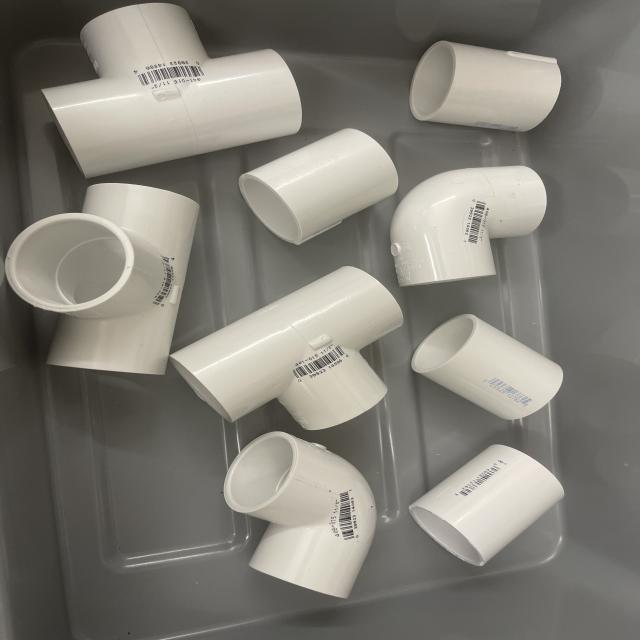L Joint: (223, 433, 375, 600), (390, 166, 547, 288)
T Joint: (40, 3, 303, 180), (168, 266, 405, 431), (4, 183, 200, 379)
